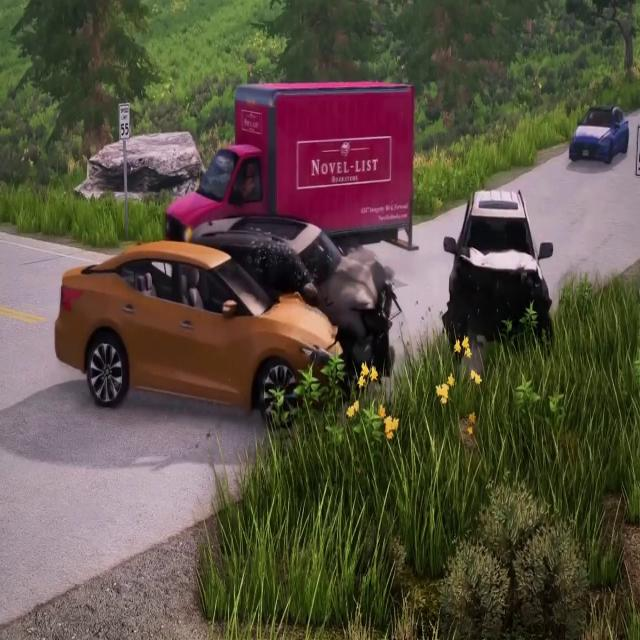accident: (53, 75, 417, 445)
